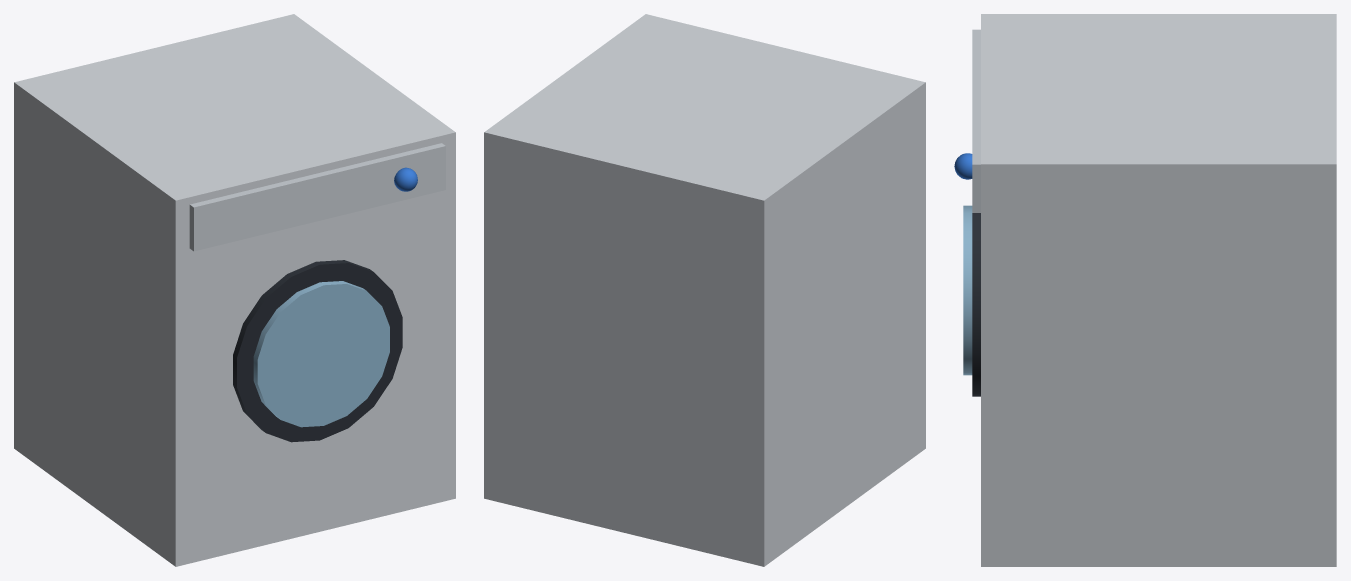
Rendered from washer.glb.
3 renders of one model, left to right at view 1: azimuth 30°, elevation 25°; view 2: azimuth 150°, elevation 25°; view 3: azimuth 270°, elevation 25°, orthographic. The views are drawn at different scales.
Visible parts, largest first — view 1: washer; view 2: washer; view 3: washer.
Boxes of the visible parts, x1,y1,x2,y2 form: washer: (14, 14, 455, 566); washer: (484, 14, 925, 566); washer: (954, 14, 1336, 566).
Size of the model in its own units: 0.8 by 1 by 0.86.
